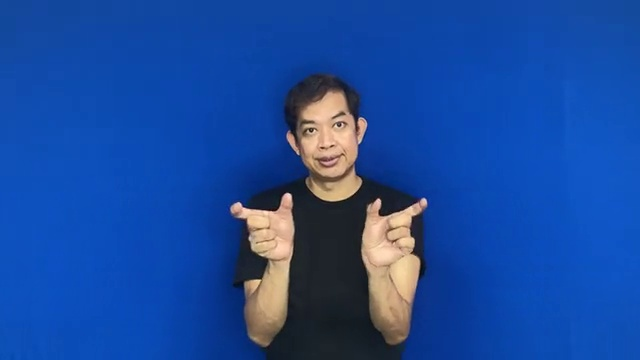crab: (220, 185, 435, 274)
